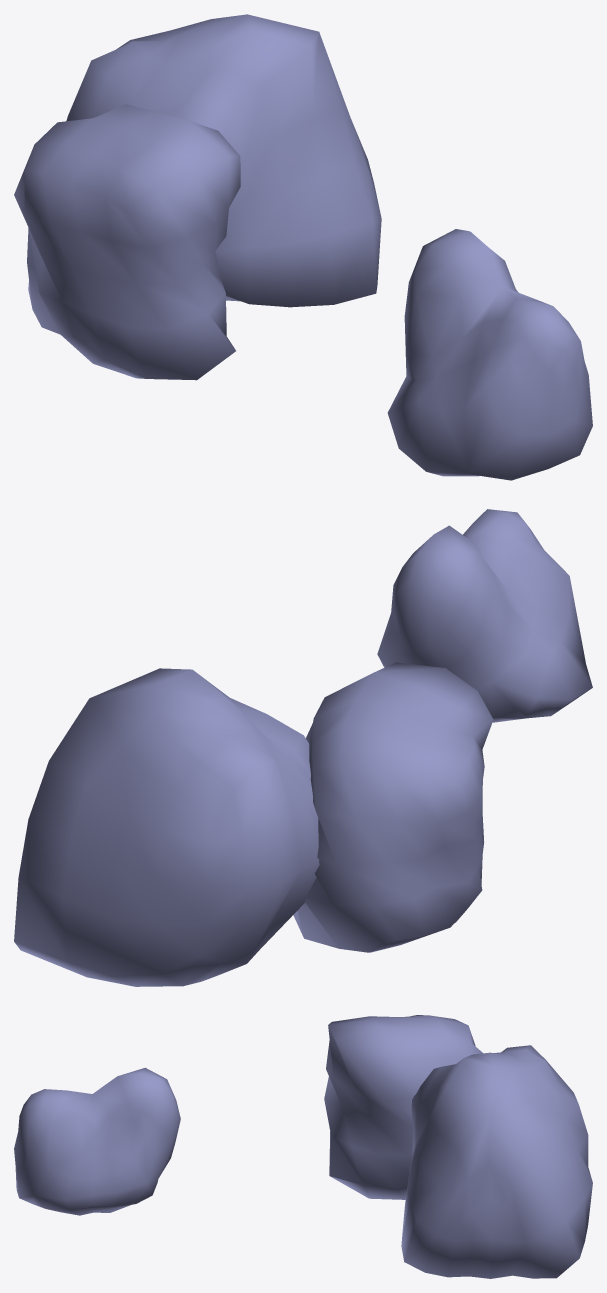
File: rocks_b.fbx
3 renders of one model, top to bottom at view 1: azimuth 30°, elevation 25°; view 2: azimuth 150°, elevation 25°; view 3: azimuth 270°, elevation 25°, orthographic. The views are drawn at different scales.
Visible parts, largest first — view 1: rock.009; view 2: rock.009; view 3: rock.009.
Part boxes in pixels (bbox=[...]): rock.009: bbox=[14, 14, 592, 480]; rock.009: bbox=[14, 509, 592, 986]; rock.009: bbox=[14, 1015, 592, 1278].
Size of the model in its own units: 42.08 by 29.59 by 80.38.
